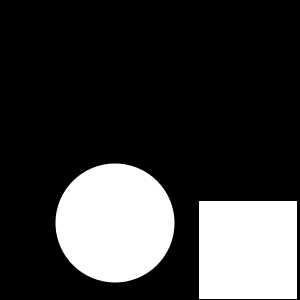circle: (199, 201, 297, 299)
rectangle: (56, 163, 174, 282)
